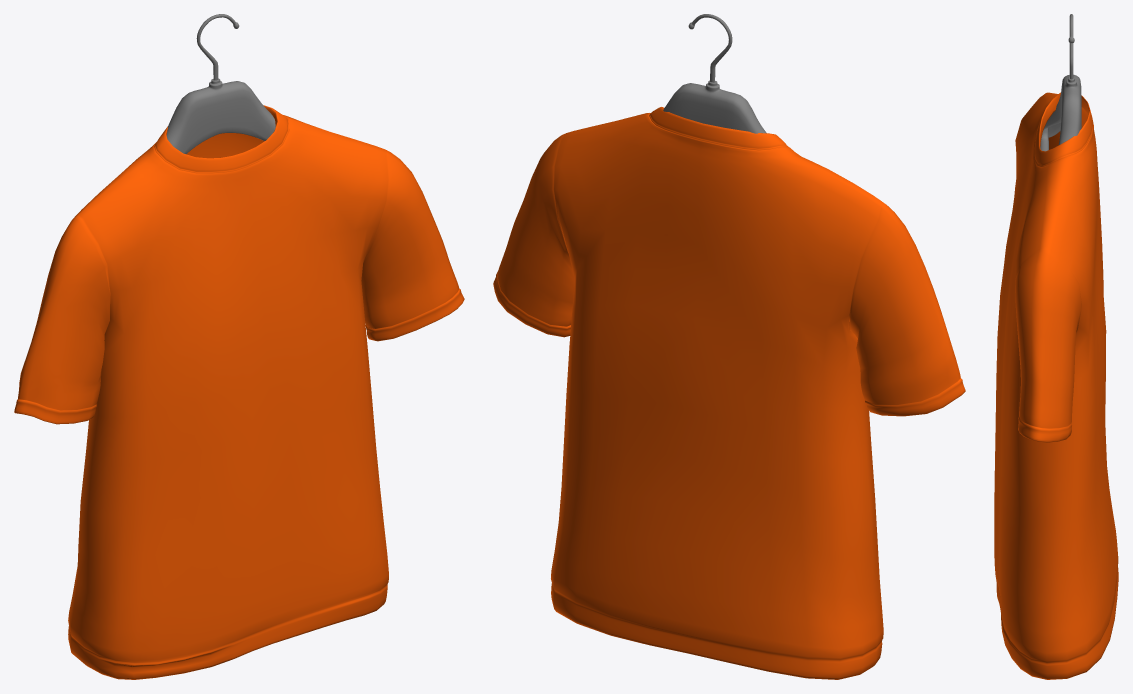
Rendered from t-shirt_on_hanger (1).glb.
The picture shows the model from 3 angles, left to right: view 1: azimuth 30°, elevation 25°; view 2: azimuth 150°, elevation 25°; view 3: azimuth 270°, elevation 25°; orthographic projection. The views are drawn at different scales.
Parts seen in each view (by area): view 1: Object_7, Object_11, Object_9; view 2: Object_7, Object_11; view 3: Object_7, Object_11.
Boxes of the visible parts, x1=… form: Object_7: x1=14, y1=105, x2=464, y2=679; Object_11: x1=166, y1=14, x2=275, y2=153; Object_9: x1=184, y1=113, x2=264, y2=154; Object_7: x1=493, y1=107, x2=965, y2=679; Object_11: x1=663, y1=14, x2=766, y2=133; Object_7: x1=994, y1=92, x2=1118, y2=679; Object_11: x1=1040, y1=14, x2=1081, y2=151.
Bounding box in the file's own units: 1205 × 1568 × 297.
